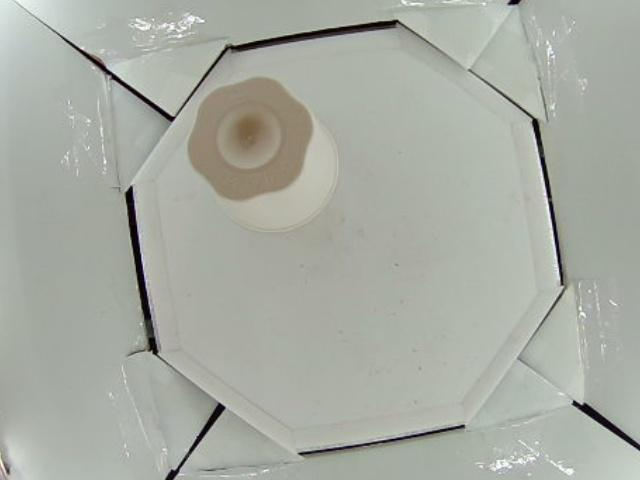Cup: (186, 77, 340, 231)
